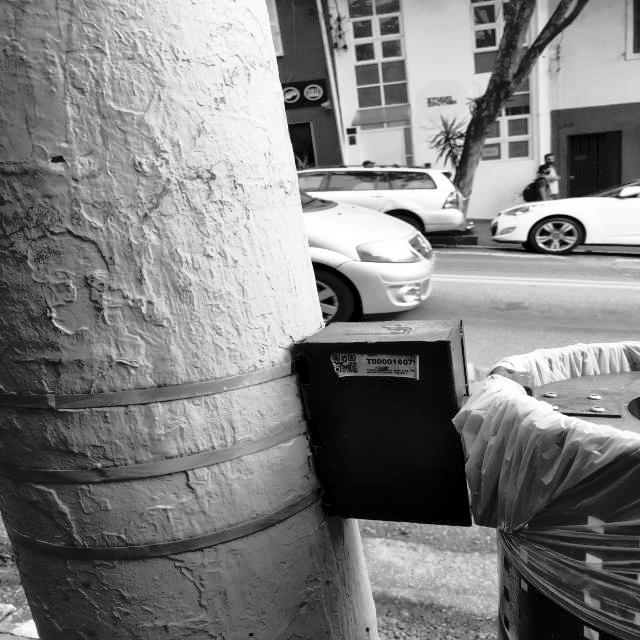qr_code: (332, 354, 357, 373)
